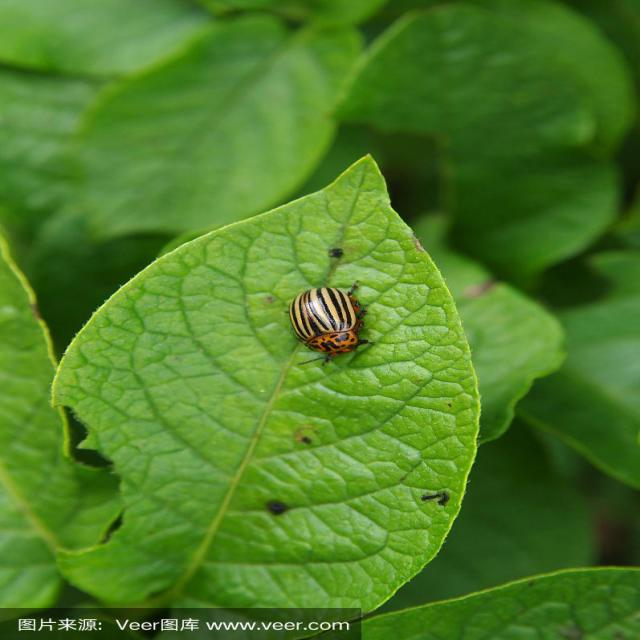ShuCaiHuaBanChong-Grown-: (285, 280, 366, 366)
